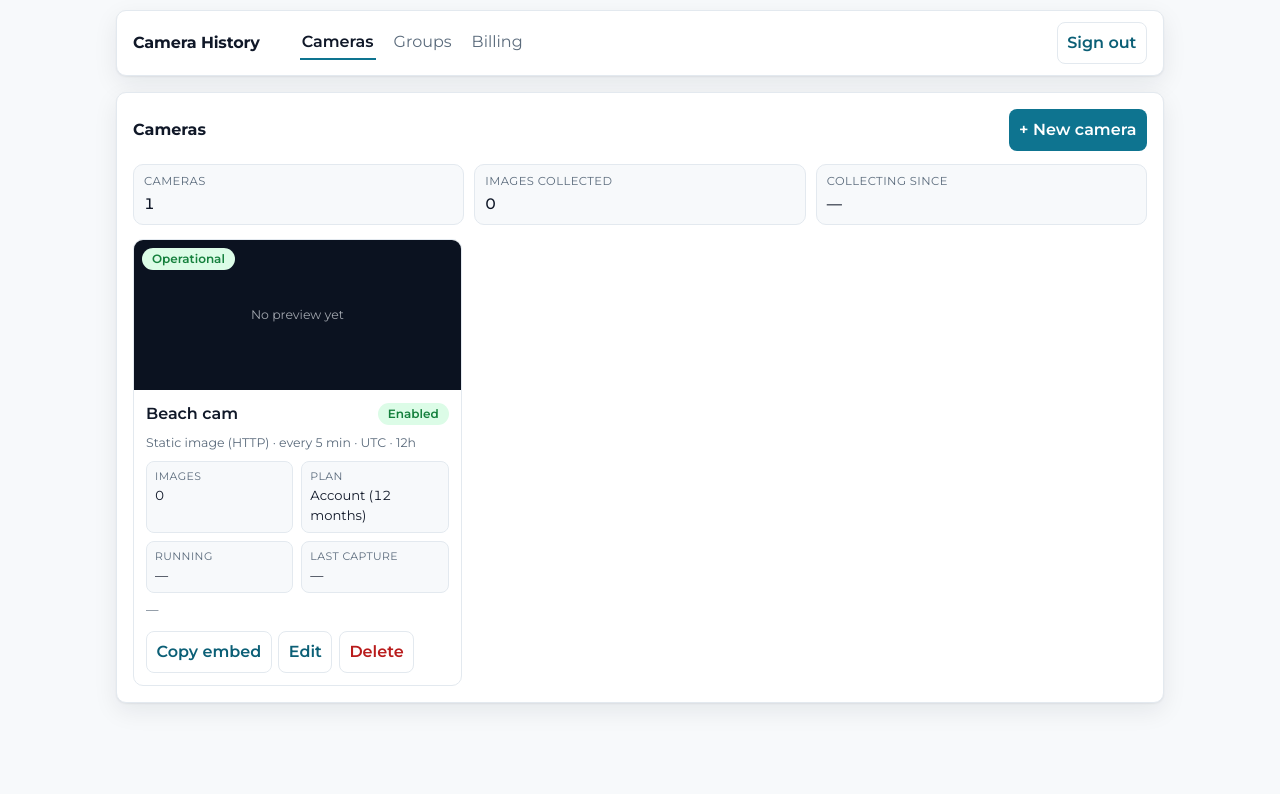
Test case: App camera CRUD › renders location and daylight fields in the camera form
Expected: the heading "Beach cam" is shown, [146,402,238,426]
Click the button with test id "add-camera": (1078, 130) [1008,109,1147,151]
(page scrolled)
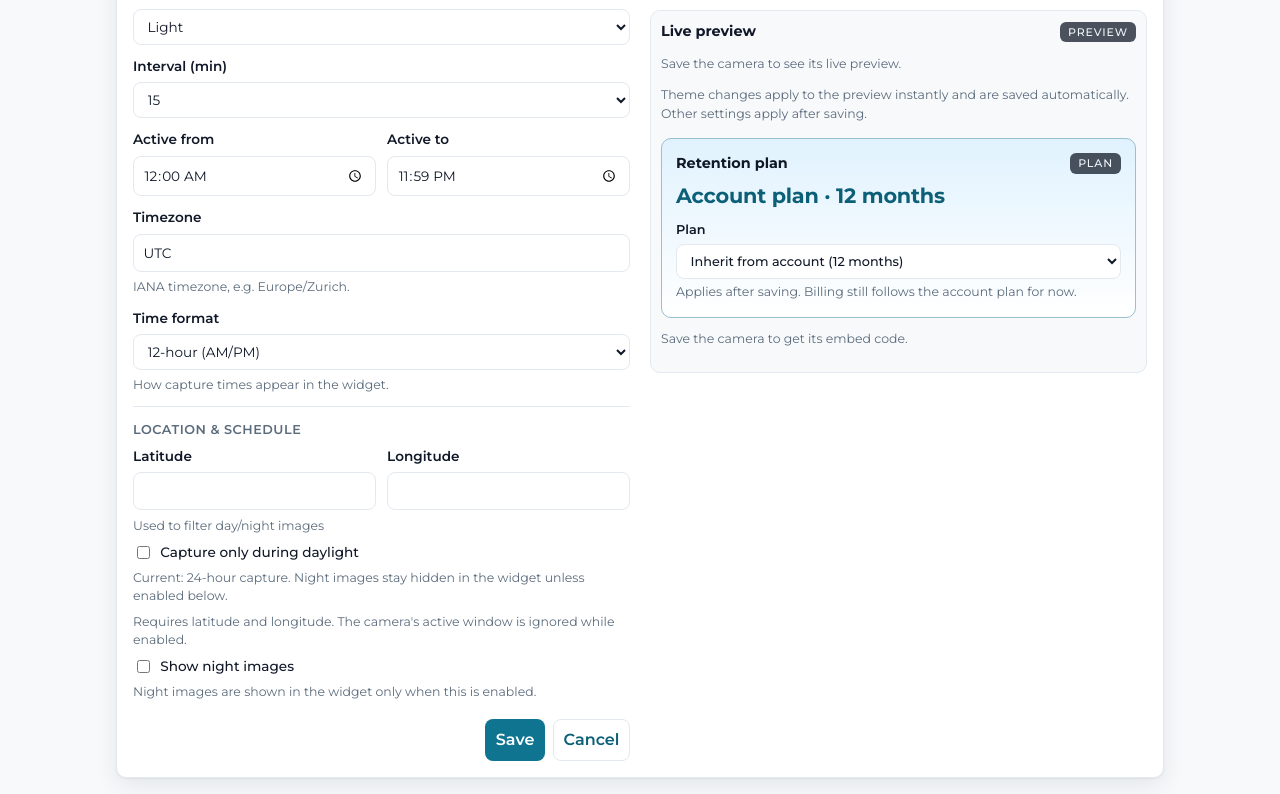
Expected: the checkbox with test id "form-daylight-only" is not checked, [137,546,150,559]
Expected: the text with test id "form-daylight-state" shows "24-hour capture", [133,570,584,603]
Expected: the text "Used to filter day/night images" is shown, [133,518,324,533]
